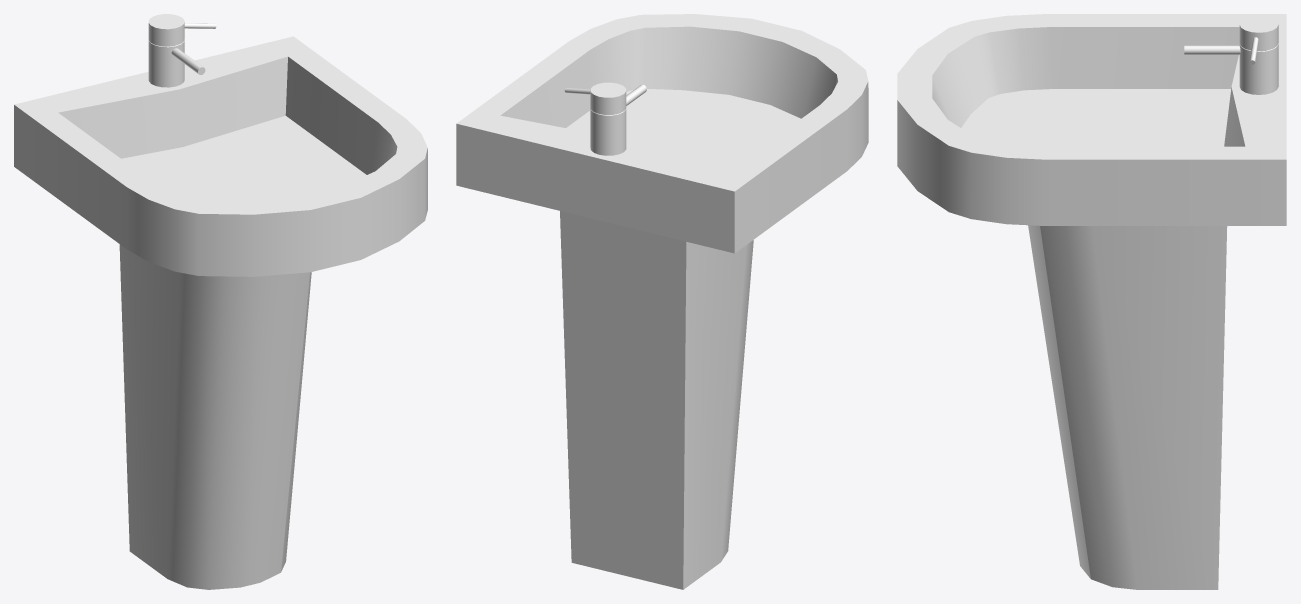
File: Prop_Sink_02.fbx
3 renders of one model, left to right at view 1: azimuth 30°, elevation 25°; view 2: azimuth 150°, elevation 25°; view 3: azimuth 270°, elevation 25°, orthographic. The views are drawn at different scales.
Parts seen in each view (by area): view 1: Prop_Sink_02; view 2: Prop_Sink_02; view 3: Prop_Sink_02.
Boxes of the visible parts, x1,y1,x2,y2 form: Prop_Sink_02: [14, 14, 427, 589]; Prop_Sink_02: [456, 14, 868, 589]; Prop_Sink_02: [897, 14, 1286, 589].
Size of the model in its own units: 48.77 by 83.71 by 55.08.
